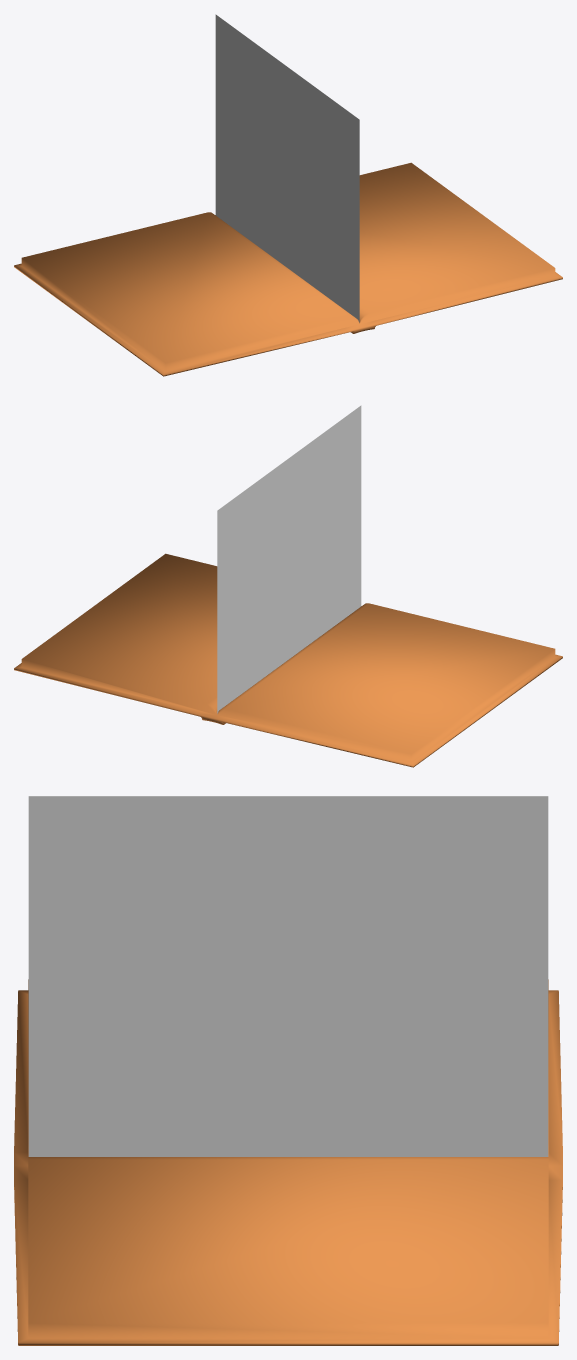
Rendered from Book 1.fbx.
3 views of the same model, one above another, from view 1: azimuth 30°, elevation 25°; view 2: azimuth 150°, elevation 25°; view 3: azimuth 270°, elevation 25° (orthographic). The views are drawn at different scales.
Parts seen in each view (by area): view 1: Livre, Page 1 Trou Backside, Page 1; view 2: Livre, Page 1 Trou Backside, Page 1; view 3: Page 1 Trou Shadder, Livre, Page 1.
Part boxes in pixels (x1,y1,x2,y2): Livre: (14, 162, 562, 376); Page 1 Trou Backside: (228, 34, 345, 290); Page 1: (215, 14, 359, 322); Livre: (14, 553, 562, 767); Page 1 Trou Backside: (230, 426, 347, 682); Page 1: (217, 405, 361, 713); Page 1 Trou Shadder: (77, 815, 502, 1123); Livre: (14, 979, 562, 1345); Page 1: (28, 796, 548, 1156).
Size of the model in its own units: 3919 by 1961 by 2581.
